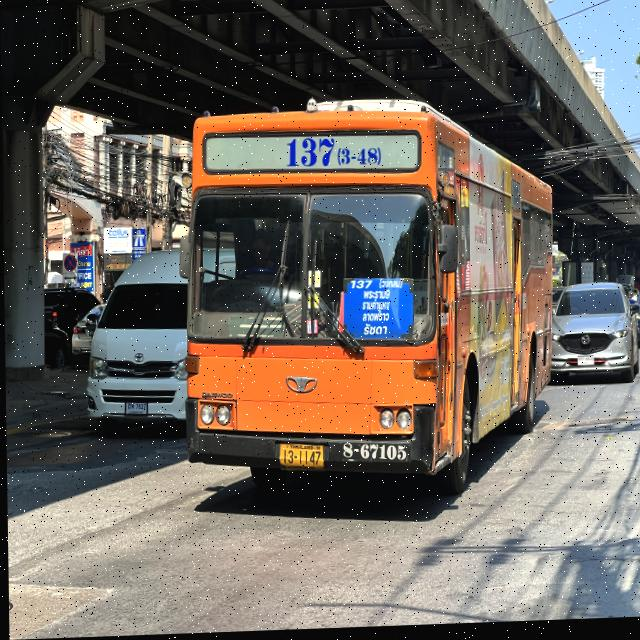BMTA-bus: (180, 105, 556, 499)
Bus Line Number: (281, 130, 388, 177)
Bus Side Number: (336, 440, 409, 472)
Destination Sign: (344, 280, 412, 346)
